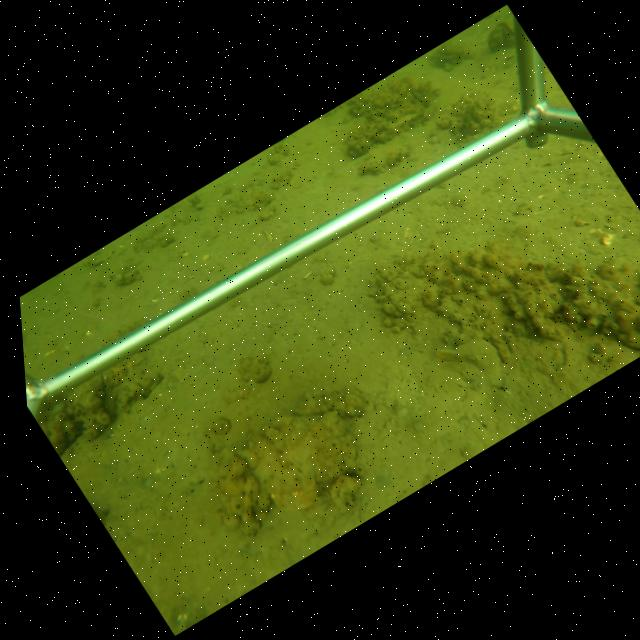Oyster-Indeterminate: (438, 334, 506, 389)
